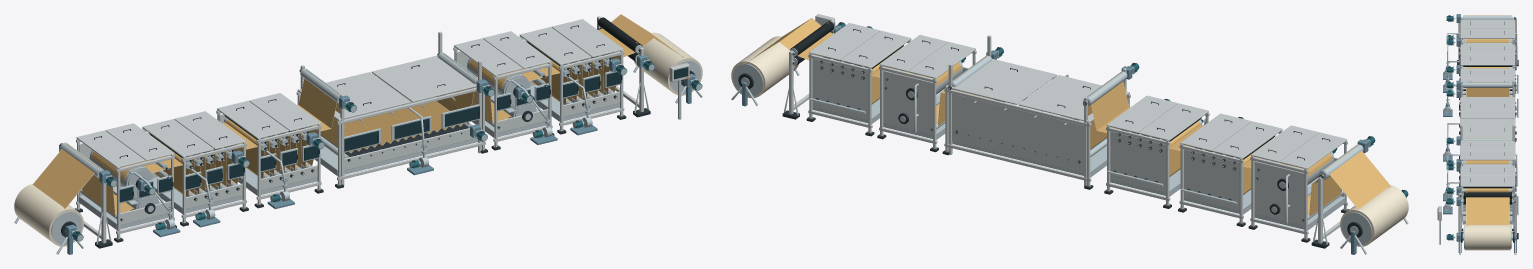
The model's file is washing_range.glb.
The picture shows the model from 3 angles, left to right: view 1: azimuth 30°, elevation 25°; view 2: azimuth 150°, elevation 25°; view 3: azimuth 270°, elevation 25°; orthographic projection. The views are drawn at different scales.
Parts seen in each view (by area): view 1: WASH_tempacta_web, wet_lid.007, wet_lid.006, WASH_entry_web, wet_working_roller, wet_bath_front.003, wet_working_roller.075, WASH_EXTRACTA_02_fabric, wet_lid.010, wet_lid.002, wet_lid.004, wet_lid.005 (+31 smaller); view 2: wet_bath_back.003, wet_lid.007, wet_bath_back.005, wet_bath_back.001, wet_bath_back.002, wet_bath_back, wet_bath_back.004, wet_lid.006, WASH_entry_web, wet_working_roller, wet_working_roller.075, WASH_tempacta_web (+24 smaller); view 3: WASH_exit_web, wet_working_roller.075, wet_lid.006, wet_lid.007, wet_lid.003, wet_lid.002, wet_lid.004, wet_lid.010, wet_lid.011, wet_lid.009, wet_lid, wet_lid.001 (+29 smaller).
Boxes of the visible parts, x1=… form: WASH_tempacta_web: x1=298, y1=54, x2=474, y2=152; wet_lid.007: x1=371, y1=55, x2=476, y2=102; wet_lid.006: x1=297, y1=72, x2=410, y2=120; WASH_entry_web: x1=33, y1=144, x2=98, y2=208; wet_working_roller: x1=14, y1=184, x2=83, y2=246; wet_bath_front.003: x1=344, y1=128, x2=475, y2=170; wet_working_roller.075: x1=634, y1=32, x2=702, y2=95; WASH_EXTRACTA_02_fabric: x1=223, y1=119, x2=317, y2=178; wet_lid.010: x1=519, y1=27, x2=591, y2=65; wet_lid.002: x1=142, y1=119, x2=214, y2=157; wet_lid.004: x1=217, y1=101, x2=288, y2=138; wet_lid.005: x1=249, y1=93, x2=320, y2=131; wet_bath_back.003: x1=952, y1=93, x2=1083, y2=173; wet_lid.007: x1=945, y1=58, x2=1056, y2=104; wet_bath_back.005: x1=812, y1=58, x2=868, y2=120; wet_bath_back.001: x1=1184, y1=149, x2=1239, y2=210; wet_bath_back.002: x1=1110, y1=131, x2=1165, y2=192; wet_bath_back: x1=1254, y1=161, x2=1304, y2=225; wet_bath_back.004: x1=883, y1=70, x2=932, y2=135; wet_lid.006: x1=1018, y1=75, x2=1129, y2=122; WASH_entry_web: x1=1316, y1=146, x2=1390, y2=208; wet_working_roller: x1=1340, y1=185, x2=1408, y2=246; wet_working_roller.075: x1=731, y1=36, x2=798, y2=98; WASH_tempacta_web: x1=954, y1=57, x2=1128, y2=148; WASH_exit_web: x1=1466, y1=197, x2=1509, y2=224; wet_working_roller.075: x1=1464, y1=224, x2=1510, y2=250; wet_lid.006: x1=1461, y1=95, x2=1514, y2=118; wet_lid.007: x1=1461, y1=119, x2=1514, y2=138; wet_lid.003: x1=1461, y1=54, x2=1514, y2=65; wet_lid.002: x1=1461, y1=44, x2=1514, y2=54; wet_lid.004: x1=1461, y1=68, x2=1514, y2=78; wet_lid.010: x1=1461, y1=165, x2=1514, y2=175; wet_lid.011: x1=1461, y1=176, x2=1514, y2=186; wet_lid.009: x1=1461, y1=150, x2=1514, y2=160; wet_lid: x1=1461, y1=19, x2=1514, y2=28; wet_lid.001: x1=1461, y1=29, x2=1514, y2=38.
Size of the model in its own units: 21.39 by 2.86 by 3.5.
